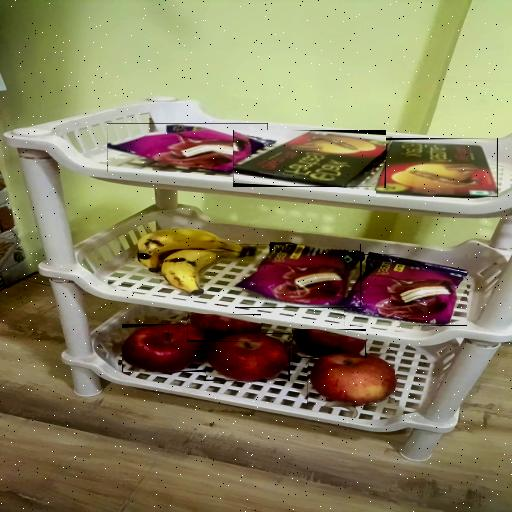Apple: (306, 354, 394, 406), (122, 324, 206, 372), (206, 333, 290, 381), (292, 330, 366, 360), (186, 314, 260, 342)
Choco Fills: (233, 130, 386, 187), (376, 138, 498, 197)
Choco Pie: (342, 254, 466, 326), (235, 244, 361, 308), (107, 123, 268, 172)
